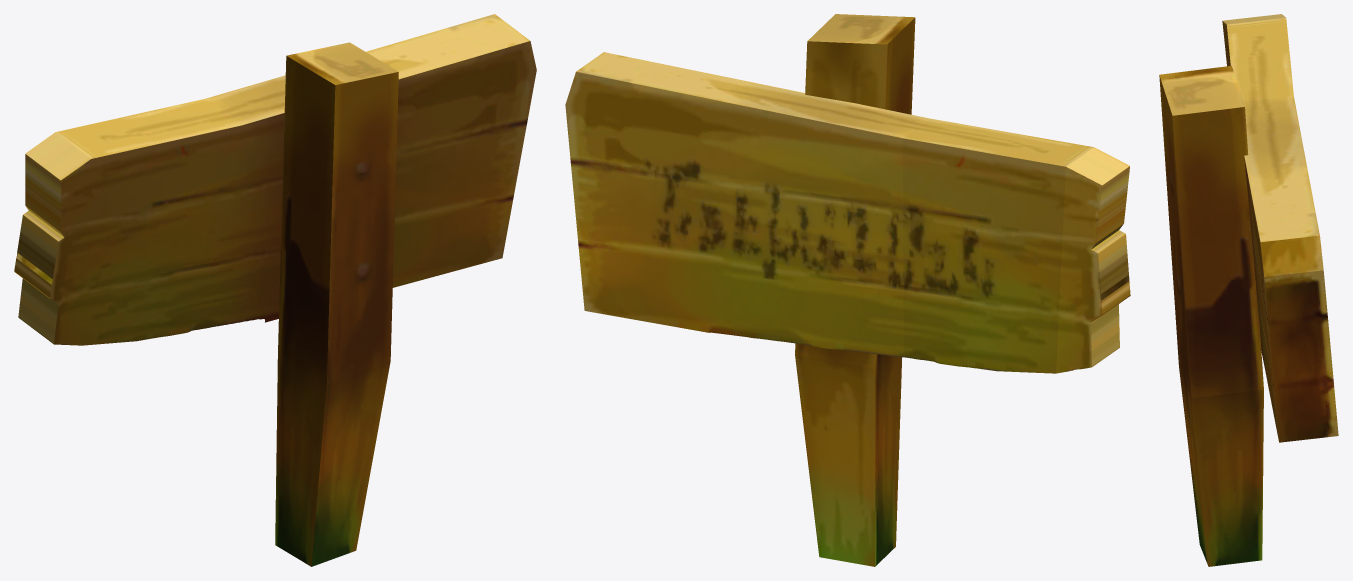
File: Gimmick_Kanban_001.fbx
The picture shows the model from 3 angles, left to right: view 1: azimuth 30°, elevation 25°; view 2: azimuth 150°, elevation 25°; view 3: azimuth 270°, elevation 25°; orthographic projection. The views are drawn at different scales.
Visible parts, largest first — view 1: Gimmick_Kanban_001; view 2: Gimmick_Kanban_001; view 3: Gimmick_Kanban_001.
Part boxes in pixels (x1,y1,x2,y2): Gimmick_Kanban_001: (14, 14, 536, 566); Gimmick_Kanban_001: (565, 14, 1130, 566); Gimmick_Kanban_001: (1159, 14, 1338, 566).
Size of the model in its own units: 0.7692 by 0.7248 by 0.2478.
